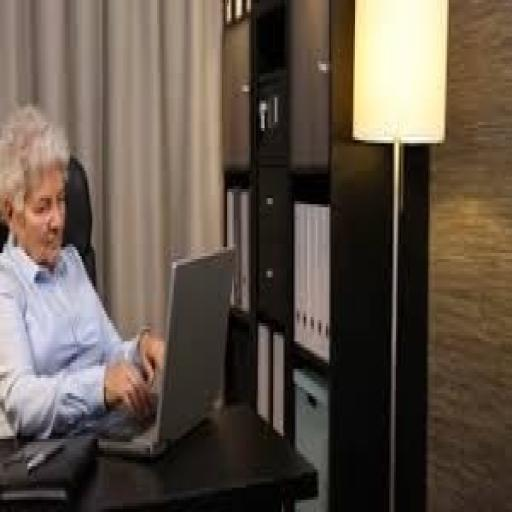using_laptop: (96, 241, 236, 460)
